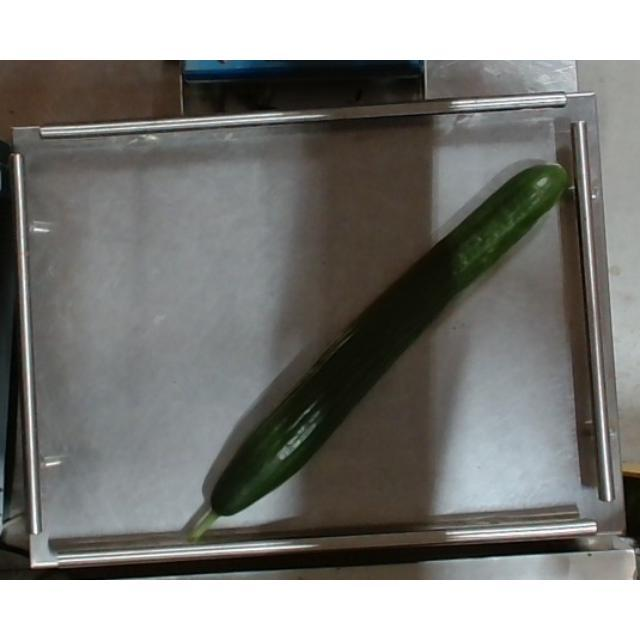cucumber: (196, 157, 564, 518)
